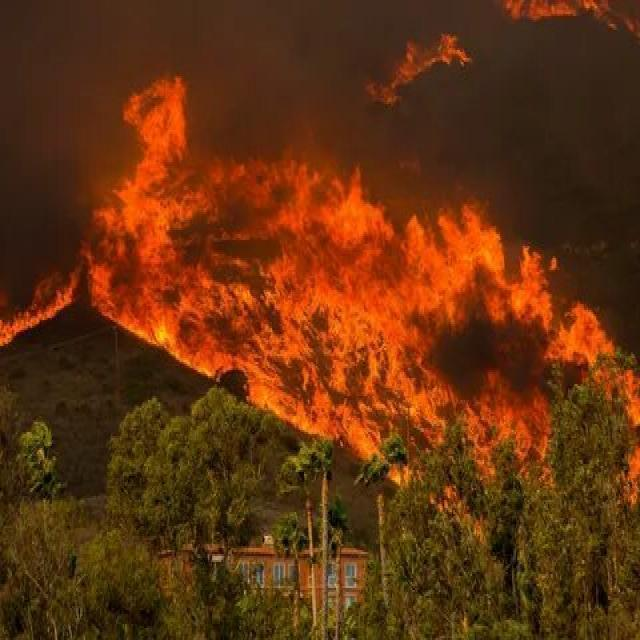Fire: (59, 70, 631, 508)
